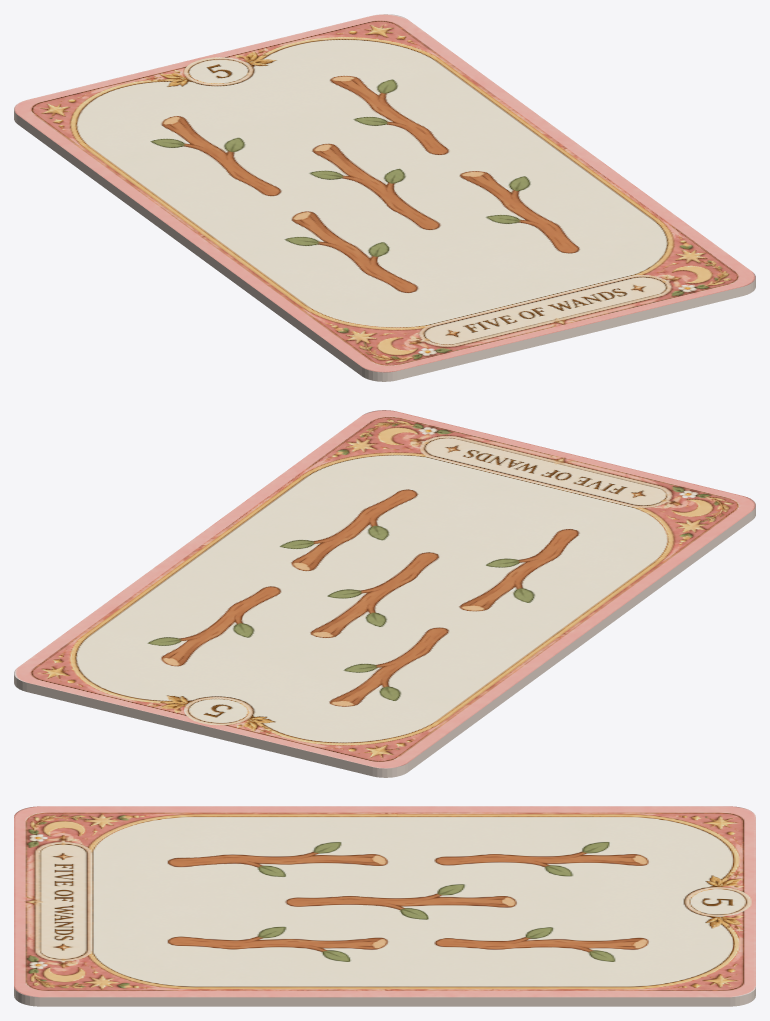
The model's file is five_of_wands.fbx.
3 views of the same model, one above another, from view 1: azimuth 30°, elevation 25°; view 2: azimuth 150°, elevation 25°; view 3: azimuth 270°, elevation 25° (orthographic).
Visible parts, largest first — view 1: five_of_wands; view 2: five_of_wands; view 3: five_of_wands.
Boxes of the visible parts, <box> form: five_of_wands: <box>14,14,755,381</box>; five_of_wands: <box>14,410,755,777</box>; five_of_wands: <box>14,806,755,1006</box>.
Size of the model in its own units: 7 by 0.16 by 11.5.
Materials: 3 (2 with a texture image).
